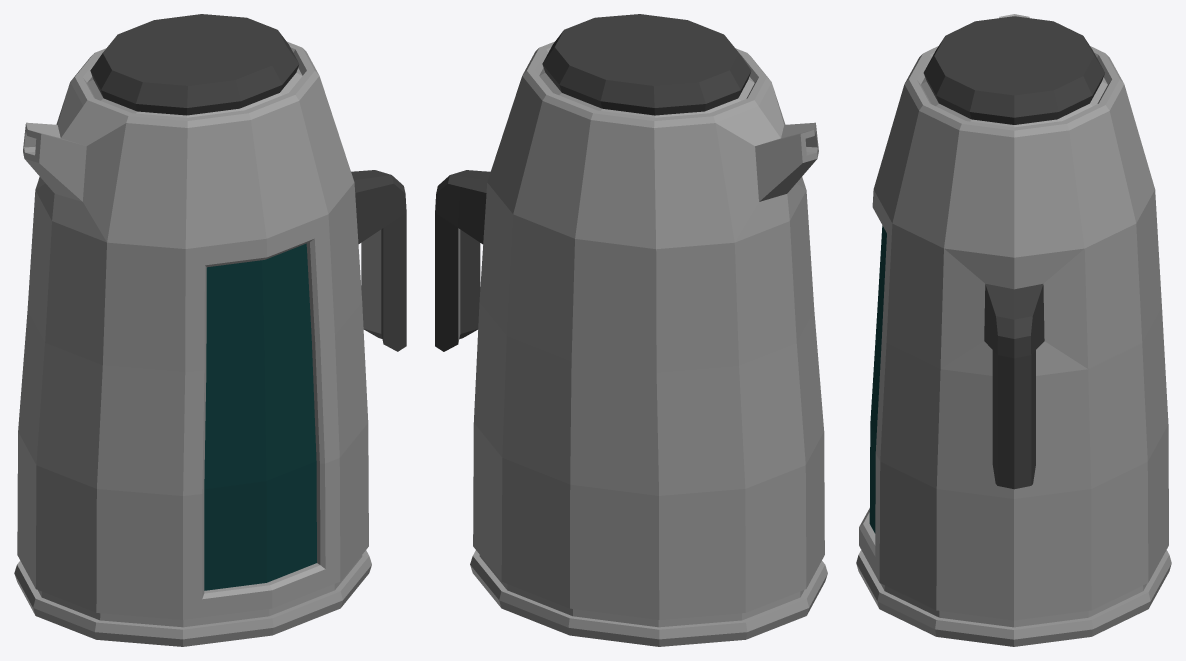
File: hh_kettle.glb
3 views of the same model, side by side, from view 1: azimuth 30°, elevation 25°; view 2: azimuth 150°, elevation 25°; view 3: azimuth 270°, elevation 25° (orthographic). The views are drawn at different scales.
Parts seen in each view (by area): view 1: Kettle; view 2: Kettle; view 3: Kettle.
Part boxes in pixels (x1=…): Kettle: x1=14, y1=14, x2=406, y2=646; Kettle: x1=435, y1=14, x2=827, y2=646; Kettle: x1=856, y1=14, x2=1171, y2=646.
Bounding box in the file's own units: 0.4133 × 0.5466 × 0.3027.
